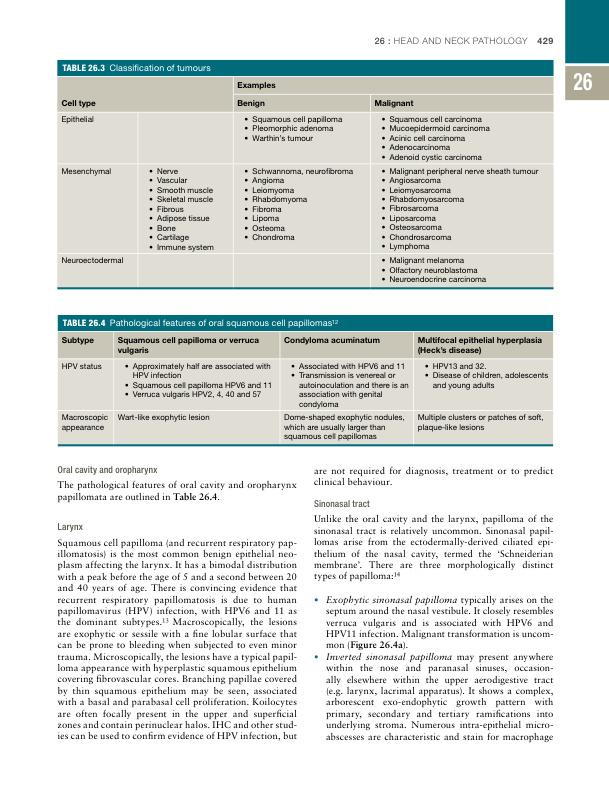caption: (62, 318, 339, 329), (61, 63, 212, 72)
header: (373, 36, 528, 45)
list: (313, 594, 554, 743)
sub-section-heading: (56, 465, 158, 476), (313, 499, 371, 508), (57, 522, 84, 533)
table: (57, 76, 554, 288), (57, 331, 554, 445)
text: (56, 537, 298, 741), (313, 513, 555, 582), (56, 480, 298, 504), (313, 465, 554, 487)
